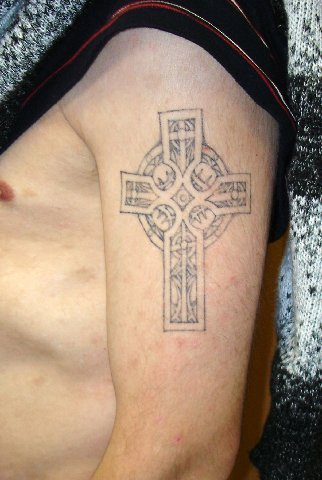tatu9_krest: (111, 102, 255, 349)
